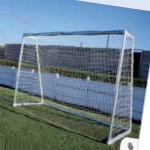goals: (11, 27, 132, 144)
